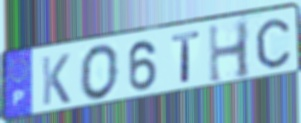6: (127, 37, 159, 93)
C: (253, 17, 292, 70)
H: (207, 18, 253, 86)
K: (40, 52, 72, 108)
O: (78, 42, 121, 103)
T: (170, 29, 202, 86)
